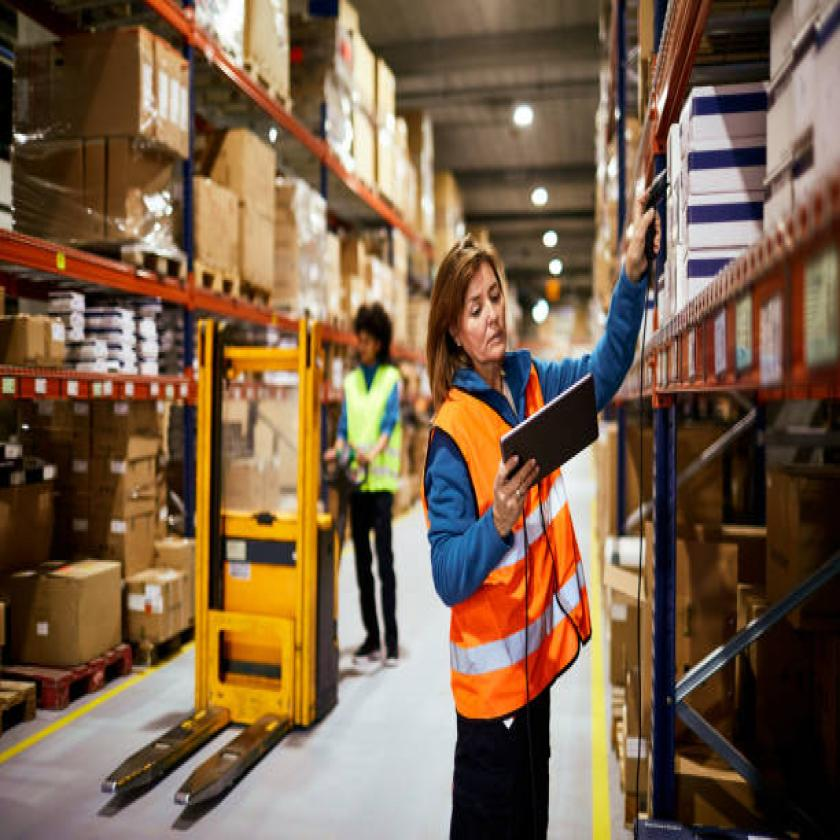Sin_casco: (428, 193, 529, 388), (341, 275, 412, 392)
